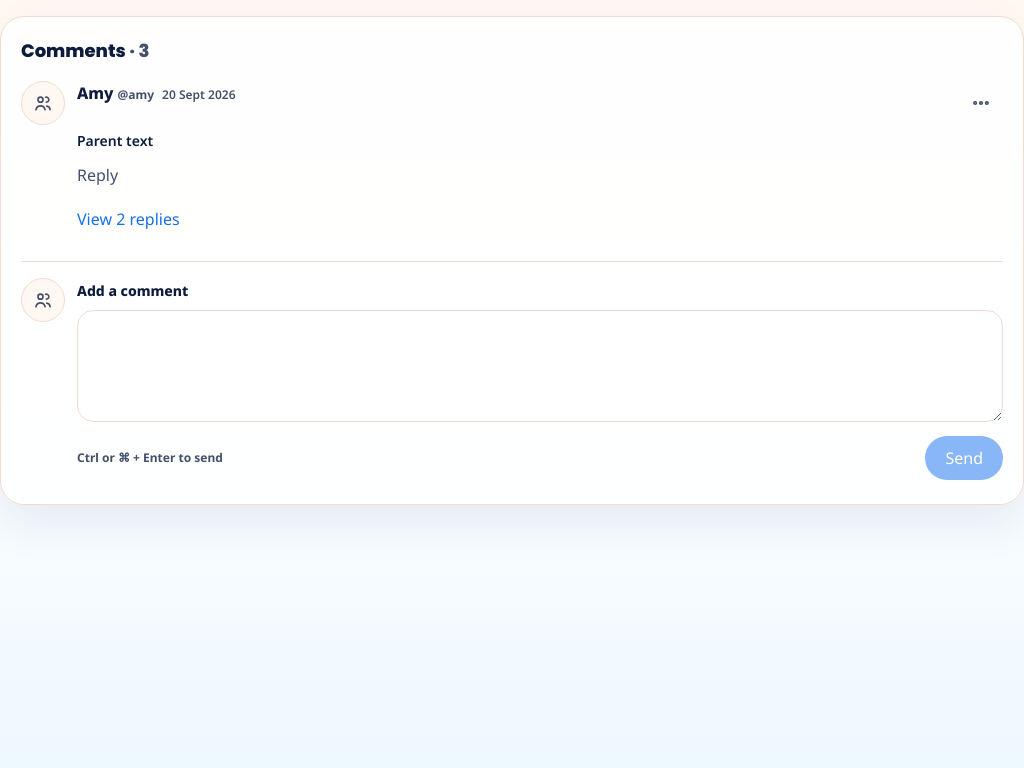
Test: One-level Reply threads › warns about nothing more when a single Reply is deleted
Click the button with aria-label "View 2 replies to Amy's comment". click: (134, 219)
box: [77,197,192,241]
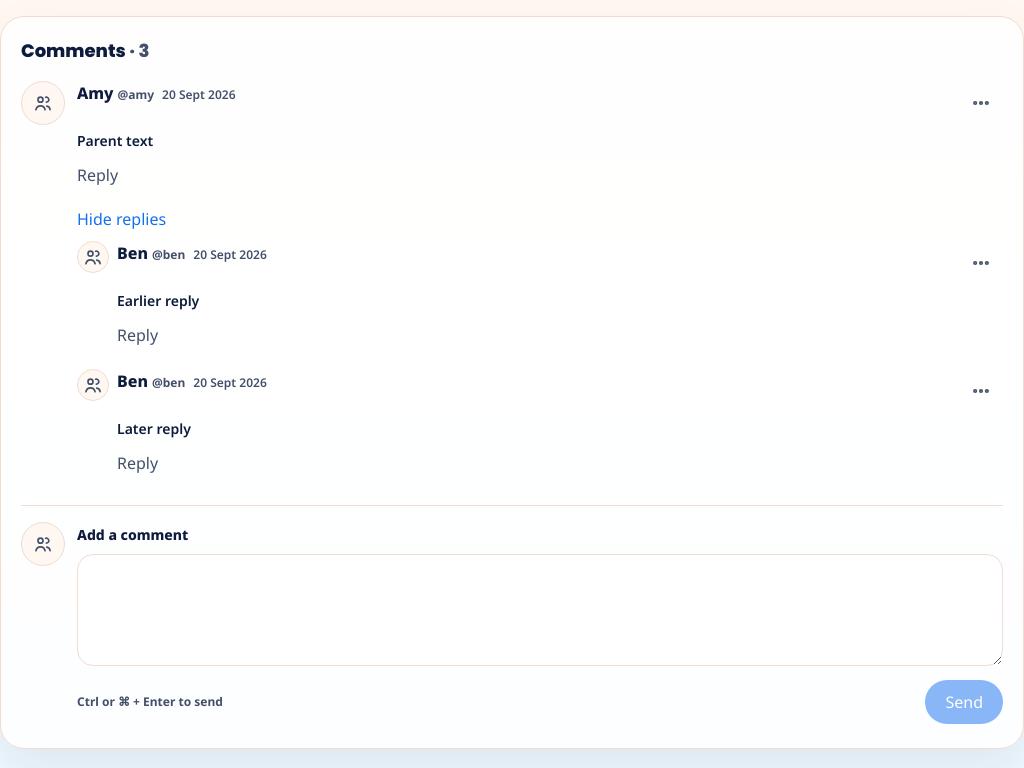
Click the 1st button named "Reply actions for Ben". click: (981, 263)
box: [959,241,1003,285]
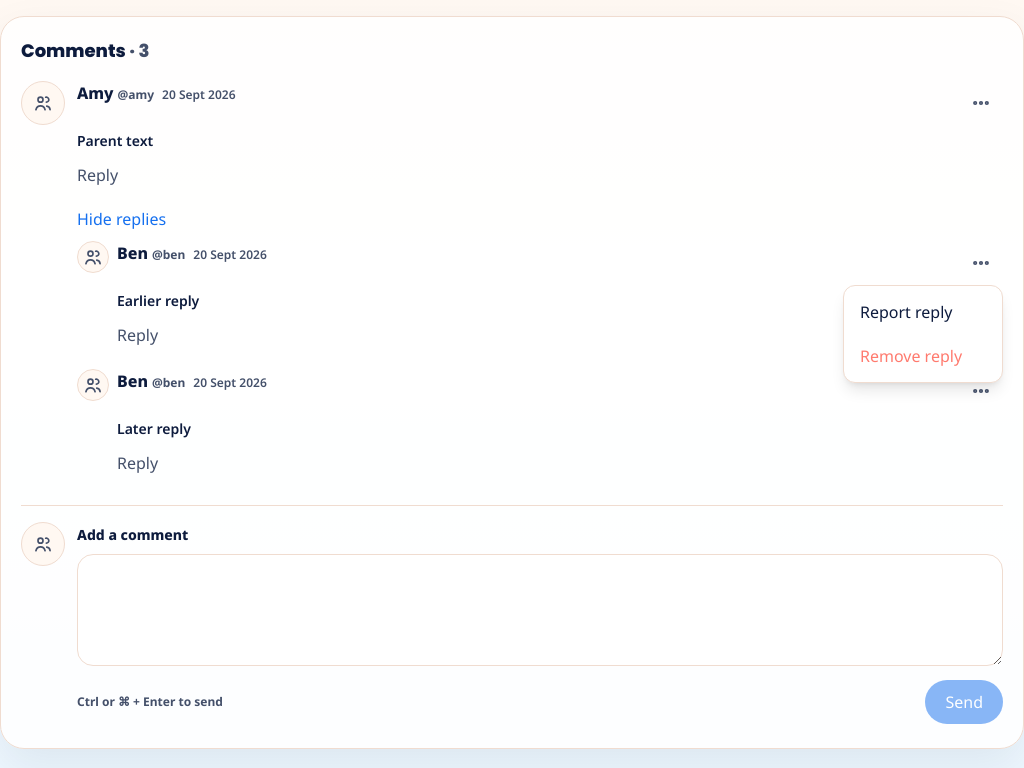
Click the button "Remove reply". click: (923, 356)
box: [848,334,998,378]
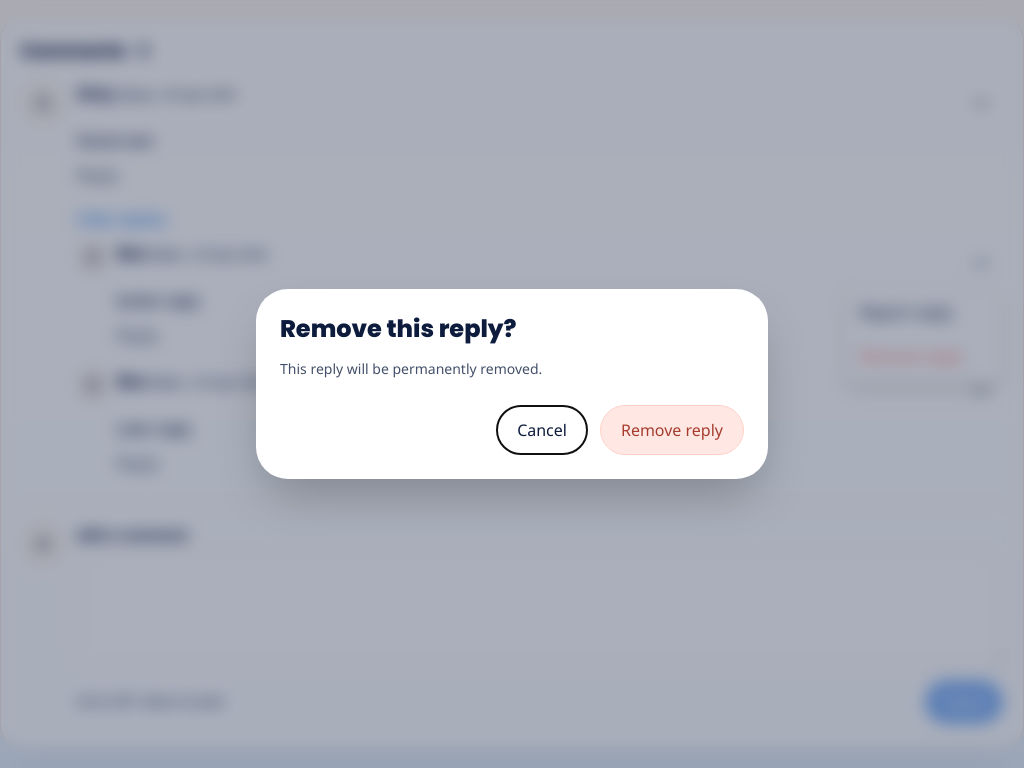
Result: the heading "Remove this reply?" is shown at [280,312,516,345]
Result: the text "This reply will be permanently removed." is shown at [280,359,542,378]
